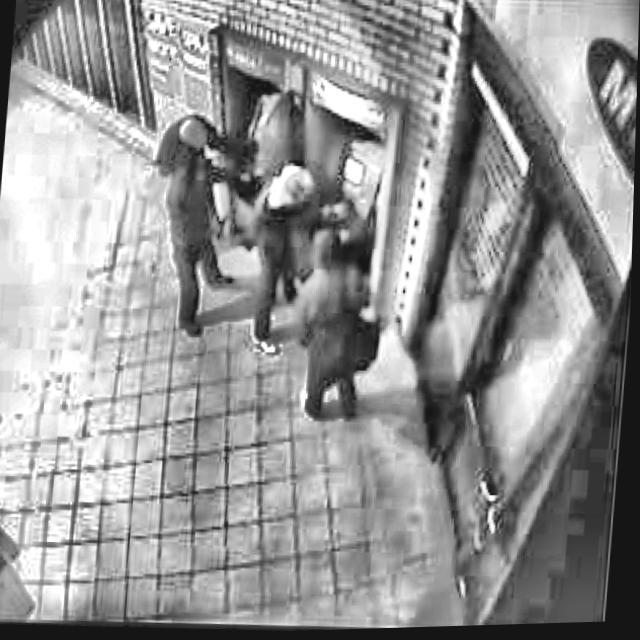Weapon: (133, 106, 450, 448)
